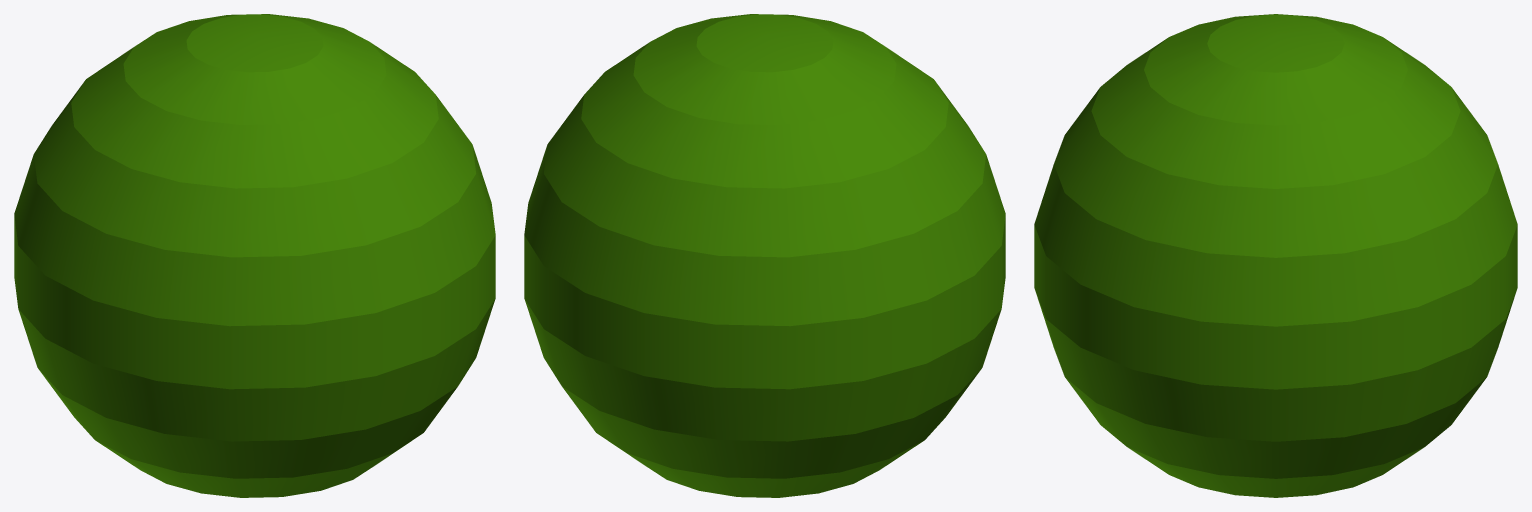
File: SLIME sphere V2.fbx
3 views of the same model, side by side, from view 1: azimuth 30°, elevation 25°; view 2: azimuth 150°, elevation 25°; view 3: azimuth 270°, elevation 25° (orthographic).
Visible parts, largest first — view 1: gewone_slime_bal1; view 2: gewone_slime_bal1; view 3: gewone_slime_bal1.
Part boxes in pixels (x1,y1,x2,y2): gewone_slime_bal1: (14,14,495,497); gewone_slime_bal1: (524,14,1005,497); gewone_slime_bal1: (1034,14,1517,497).
Bounding box in the file's own units: 98.98 × 100 × 98.98.
